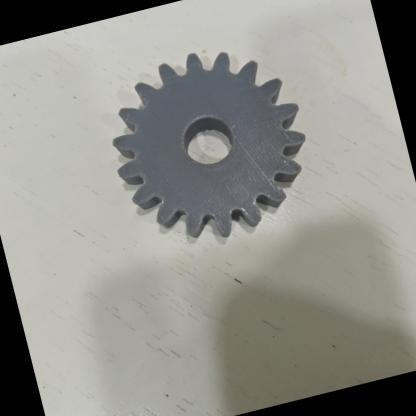gear: (83, 15, 345, 276)
